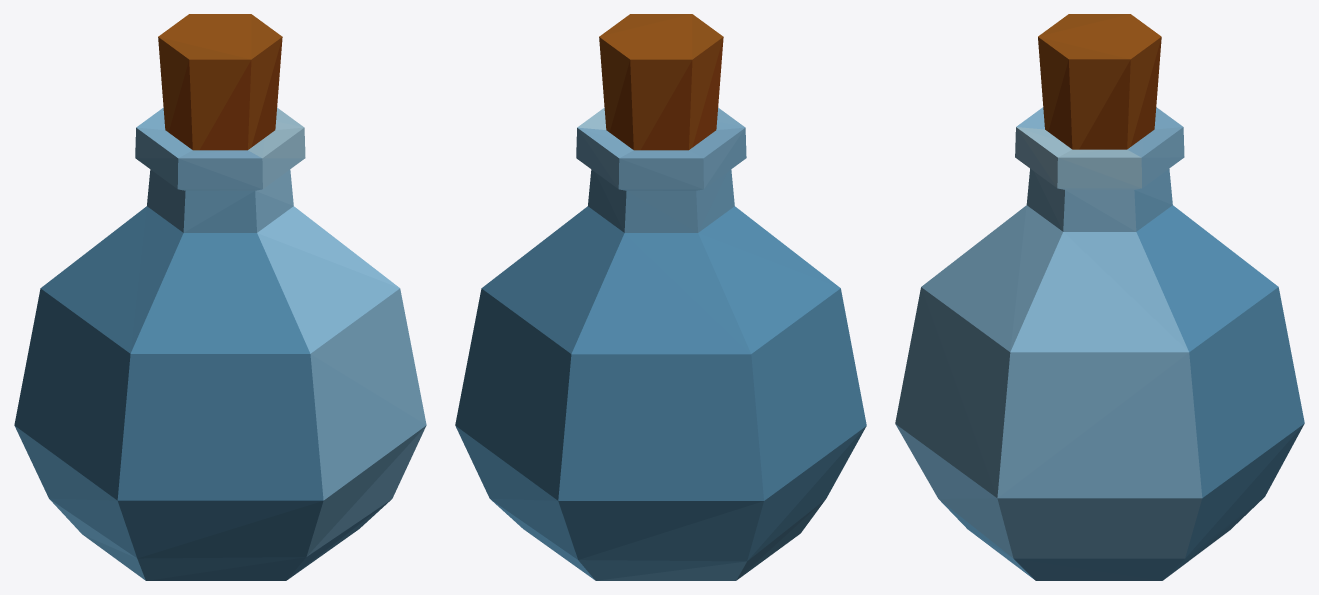
File: prop_bottle_potion_empty_4.fbx
The picture shows the model from 3 angles, left to right: view 1: azimuth 30°, elevation 25°; view 2: azimuth 150°, elevation 25°; view 3: azimuth 270°, elevation 25°; orthographic projection.
Visible parts, largest first — view 1: prop_bottle_potion_empty_4; view 2: prop_bottle_potion_empty_4; view 3: prop_bottle_potion_empty_4.
Boxes of the visible parts, left/top/right/bottom form: prop_bottle_potion_empty_4: left=14, top=14, right=426, bottom=580; prop_bottle_potion_empty_4: left=455, top=14, right=866, bottom=580; prop_bottle_potion_empty_4: left=895, top=14, right=1304, bottom=580.
Size of the model in its own units: 0.532 by 0.8155 by 0.6136.
